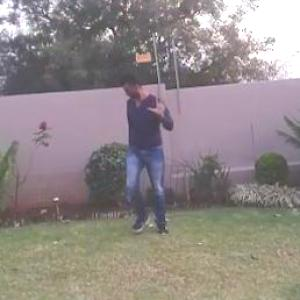follow_hand: (145, 87, 172, 121)
